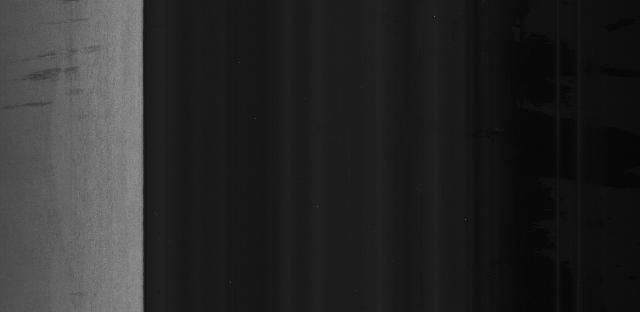water_spot: (13, 13, 124, 118)
